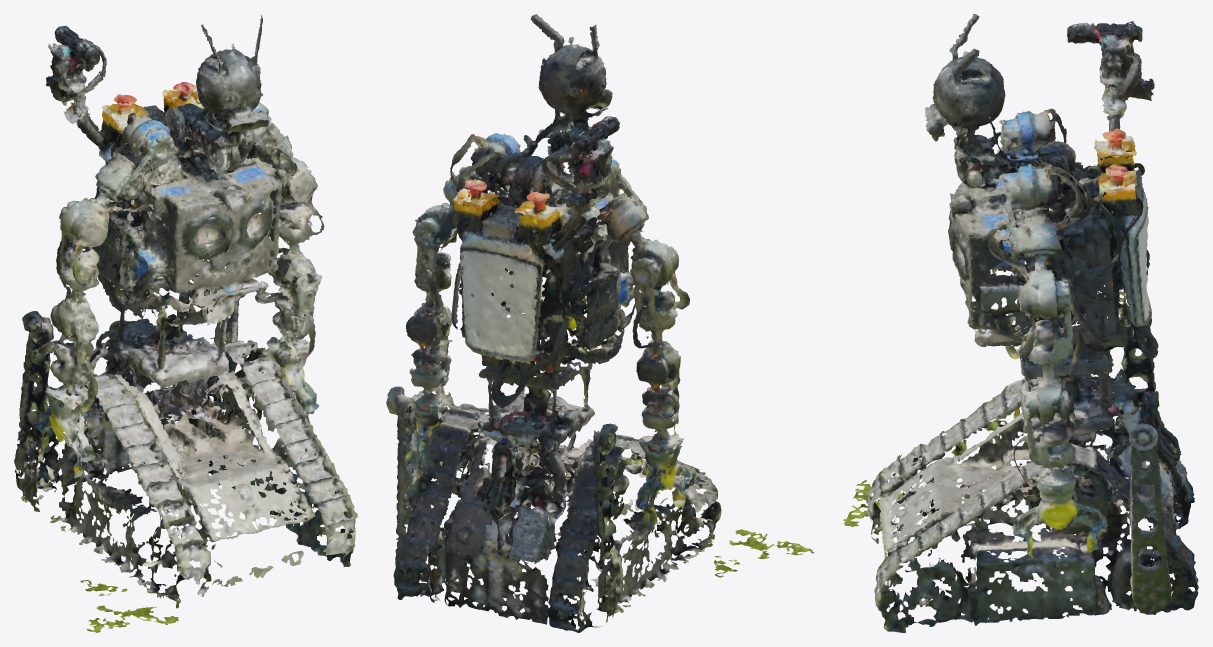
Rendered from rob-flipper-up-head-forward.glb.
3 views of the same model, side by side, from view 1: azimuth 30°, elevation 25°; view 2: azimuth 150°, elevation 25°; view 3: azimuth 270°, elevation 25° (orthographic). The views are drawn at different scales.
Parts seen in each view (by area): view 1: ROB flipper up, head forward; view 2: ROB flipper up, head forward; view 3: ROB flipper up, head forward.
Part boxes in pixels (x1,y1,x2,y2): ROB flipper up, head forward: (14,15,357,632); ROB flipper up, head forward: (386,14,814,632); ROB flipper up, head forward: (843,14,1198,632).
Size of the model in its own units: 0.7343 by 1.2 by 0.6861.
